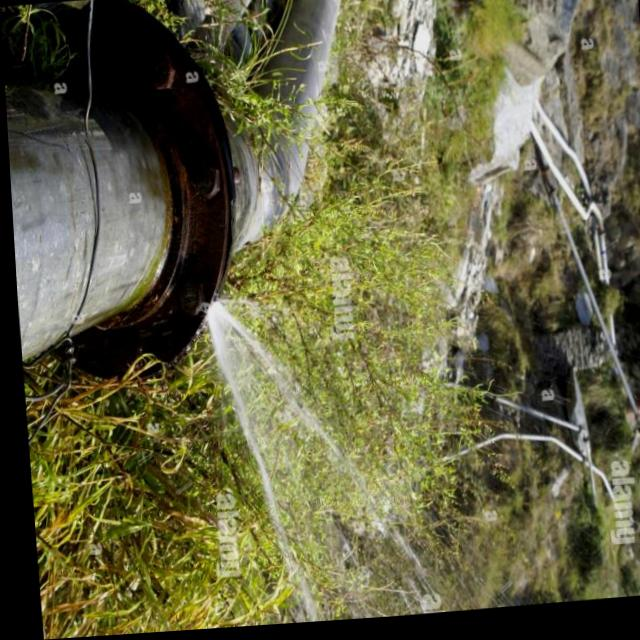leak: (207, 300, 469, 623)
